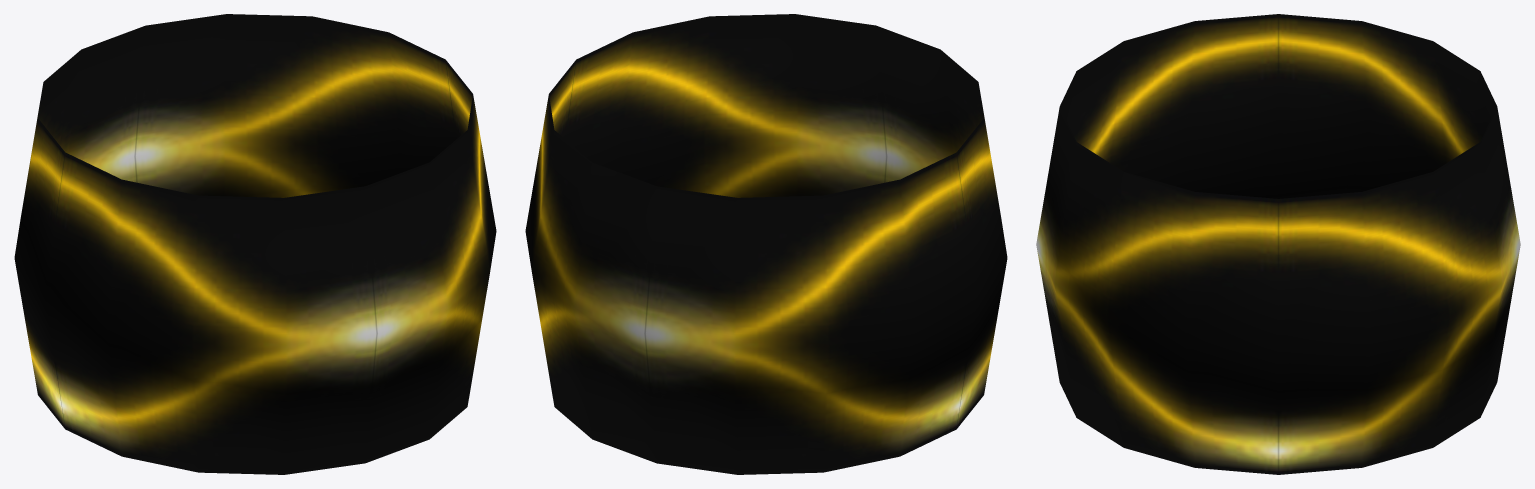
Rendered from power_up_fx_mesh.glb.
The picture shows the model from 3 angles, left to right: view 1: azimuth 30°, elevation 25°; view 2: azimuth 150°, elevation 25°; view 3: azimuth 270°, elevation 25°; orthographic projection.
Parts seen in each view (by area): view 1: effect_infinity_ring_a; view 2: effect_infinity_ring_a; view 3: effect_infinity_ring_a.
Boxes of the visible parts, x1,y1,x2,y2 form: effect_infinity_ring_a: (14, 14, 496, 474); effect_infinity_ring_a: (525, 14, 1007, 474); effect_infinity_ring_a: (1036, 14, 1520, 474).
Bounding box in the file's own units: 5.18 × 3.26 × 5.18.
1 material, 1 textured.
